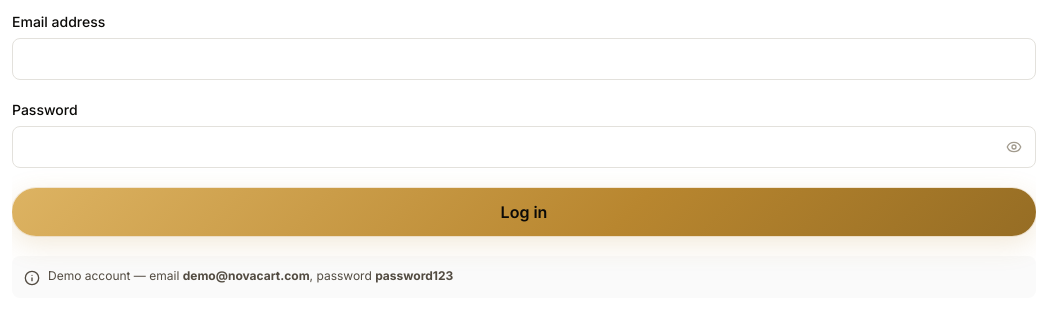
Test case: LoginForm › shows an error for an invalid email format
Type "not-an-email" into the field labelled "Email address" at (524, 59), box [12,38,1036,80]
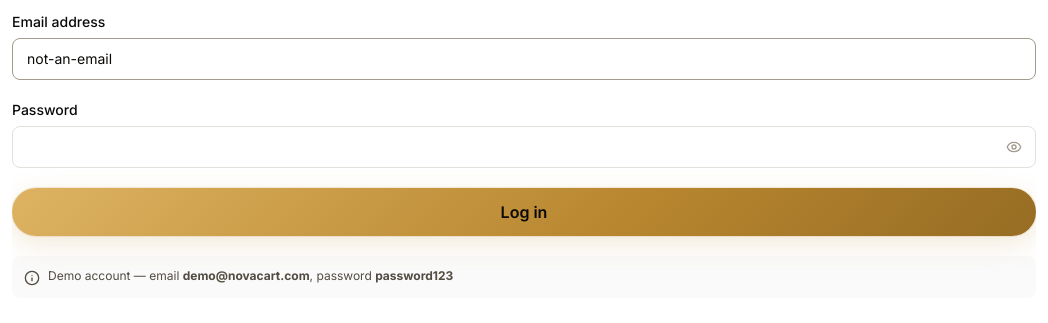
Type "password123" into the password field labelled "Password" at (524, 147), box [12,126,1036,168]
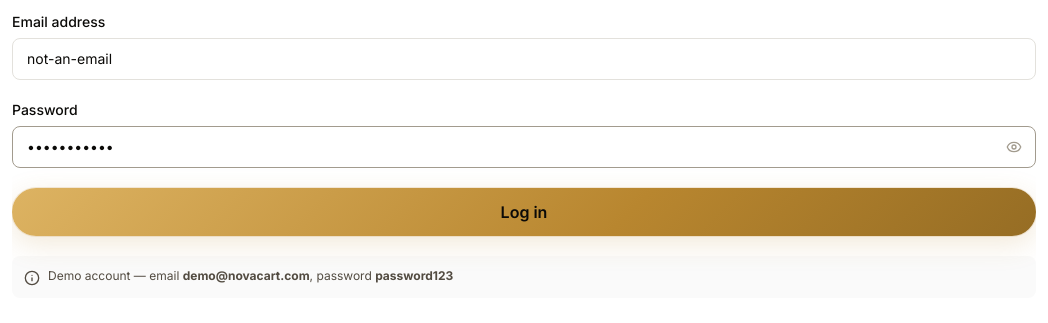
Click the button "Log in" at (524, 212), box [12,188,1036,236]
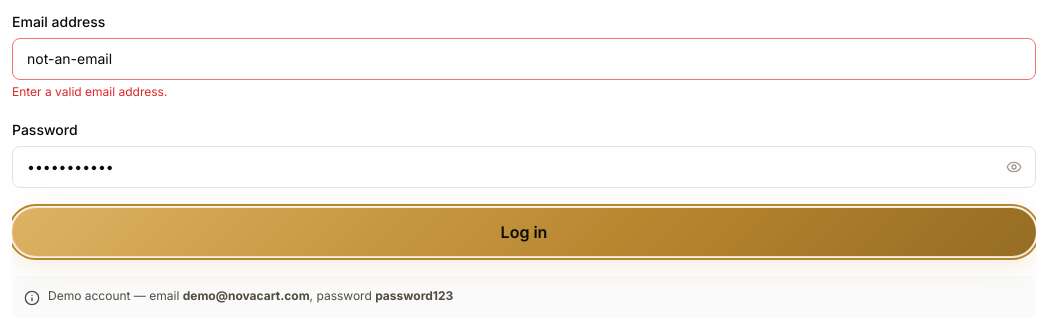
Expected: the text "Enter a valid email address." is shown, [12,84,167,99]
